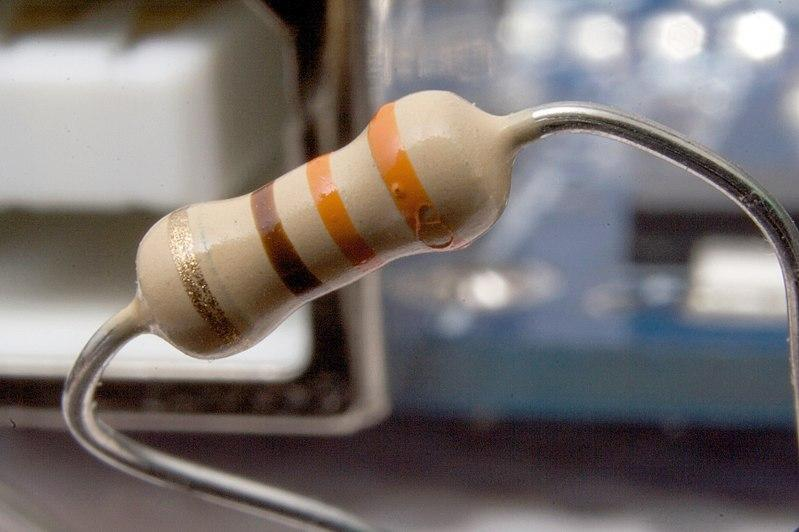resistor: (109, 85, 543, 361)
